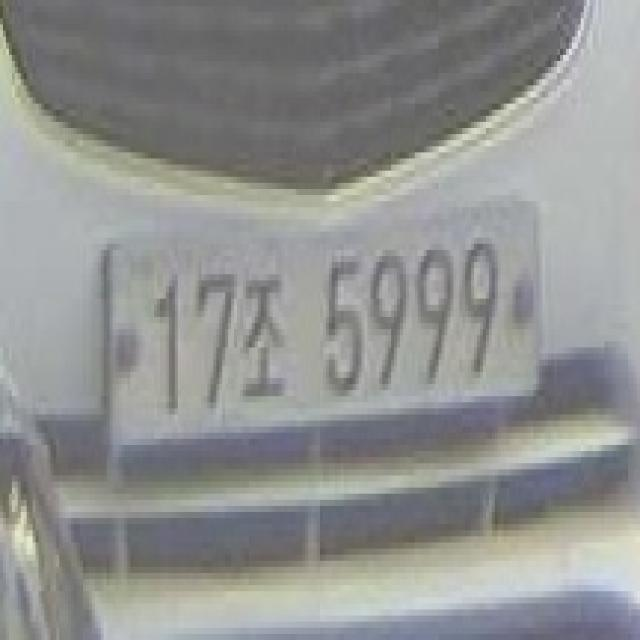1: (148, 256, 190, 433)
5: (320, 250, 367, 408)
7: (190, 256, 240, 433)
9: (412, 232, 459, 414), (459, 225, 501, 408), (364, 250, 409, 414)
jo: (240, 256, 287, 421)
license_plate: (95, 189, 545, 475)
